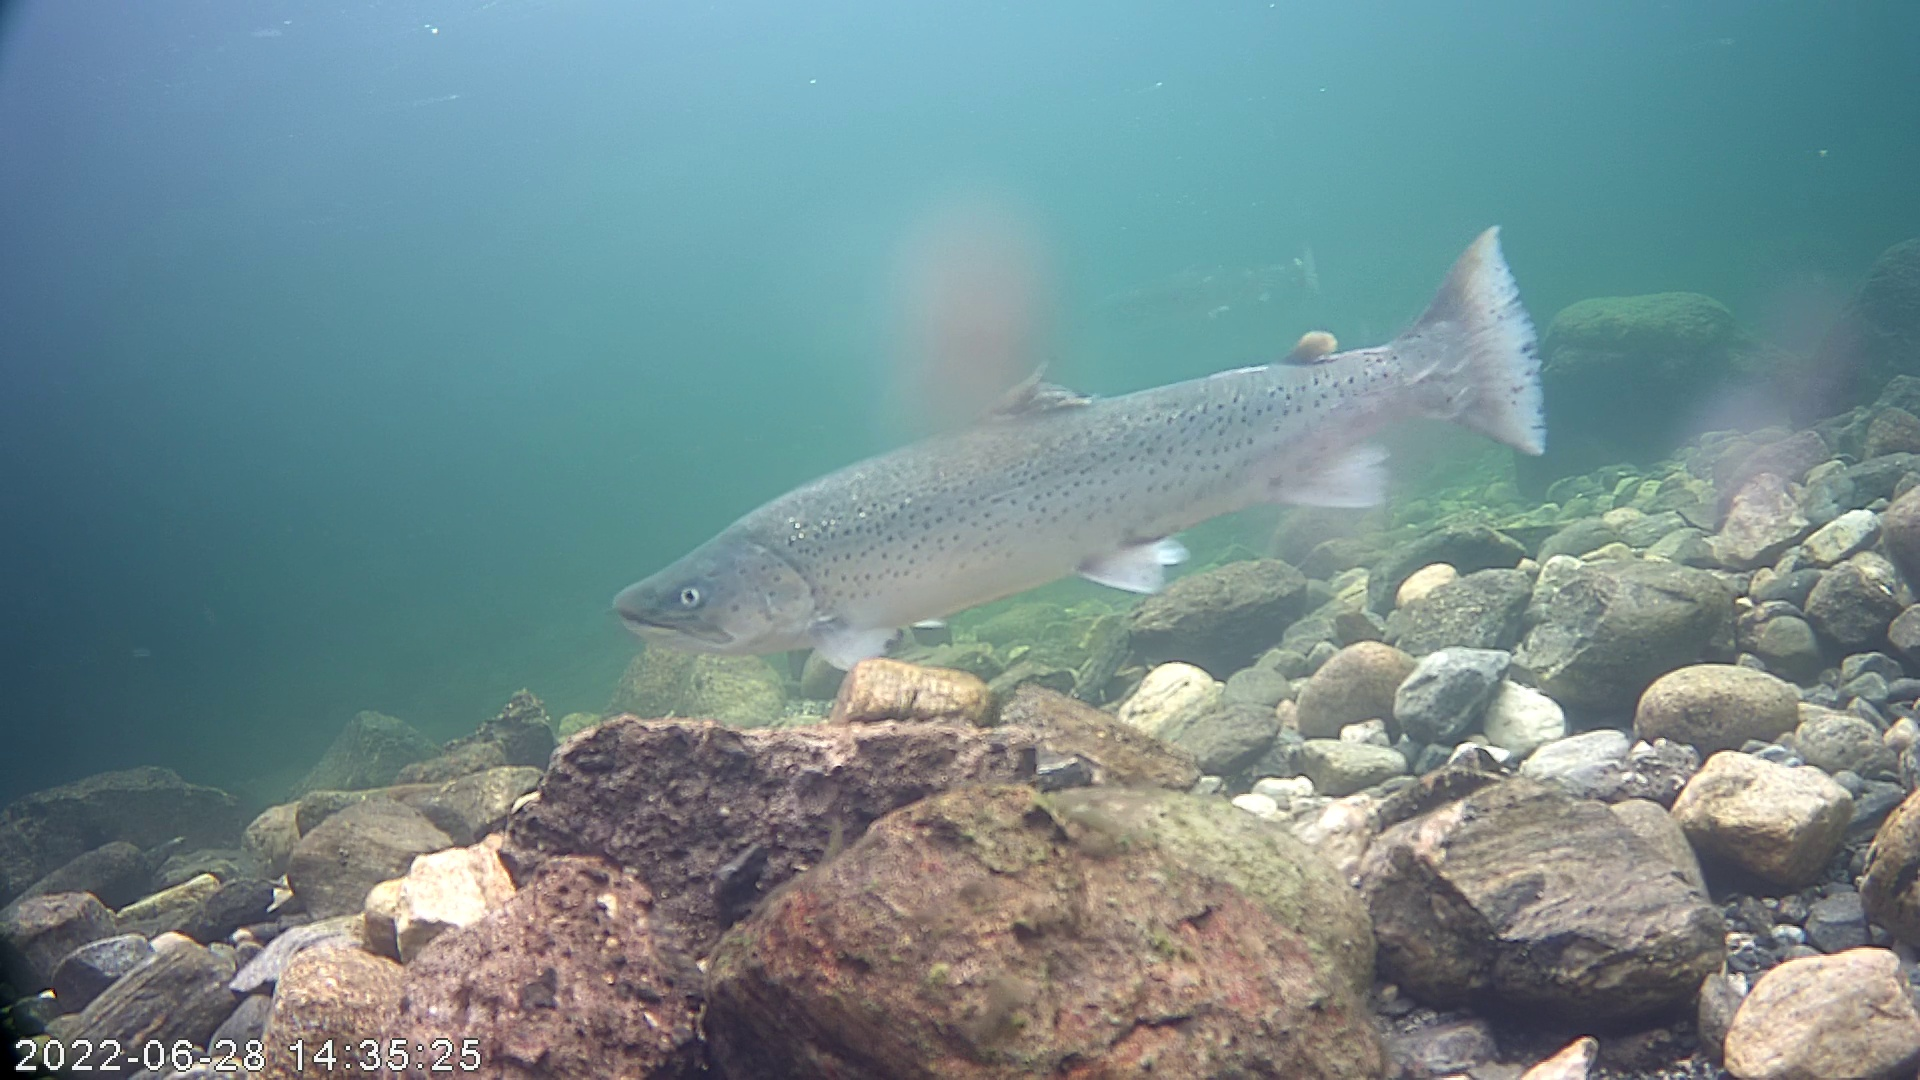salmon: (625, 207, 1576, 673)
